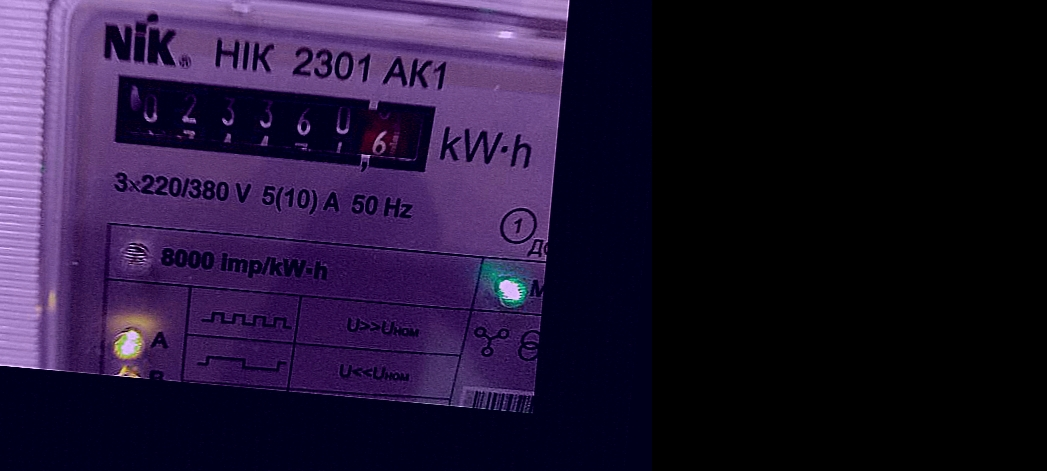0: (330, 100, 355, 137), (138, 87, 163, 123)
2: (178, 88, 202, 125)
3: (216, 92, 239, 128), (255, 94, 276, 130)
6: (292, 100, 315, 136), (368, 122, 389, 157)
screen: (97, 60, 455, 190)
